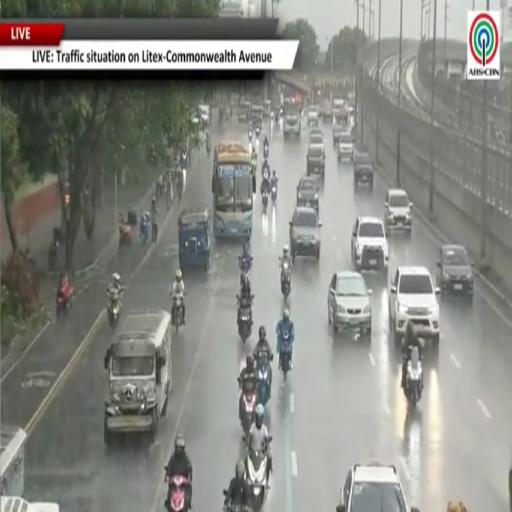bus: (212, 141, 254, 237), (0, 425, 26, 495), (283, 98, 301, 138)
car: (389, 266, 440, 346), (336, 463, 419, 511), (328, 270, 371, 338), (351, 217, 388, 270), (437, 245, 474, 297), (289, 206, 321, 260), (385, 189, 411, 235), (297, 176, 318, 213), (354, 152, 374, 188), (307, 144, 325, 177), (337, 133, 353, 162), (309, 128, 324, 148), (251, 105, 263, 129), (319, 100, 332, 122), (198, 103, 210, 126), (239, 101, 251, 122), (307, 106, 319, 126)
motorcycle: (404, 348, 422, 408), (165, 475, 190, 511), (240, 390, 257, 436), (237, 295, 253, 342), (256, 356, 271, 406), (56, 280, 74, 316), (280, 330, 292, 380), (108, 295, 120, 331), (281, 261, 291, 298), (172, 297, 182, 331), (119, 222, 132, 247), (48, 240, 58, 271), (140, 213, 149, 244), (239, 256, 252, 276), (224, 503, 249, 511), (166, 186, 172, 211), (262, 163, 270, 181), (271, 181, 277, 204), (177, 179, 183, 201), (262, 191, 268, 211), (206, 139, 211, 156), (255, 126, 261, 140), (252, 157, 257, 172), (264, 143, 269, 158), (248, 131, 252, 141), (268, 437, 271, 442)
